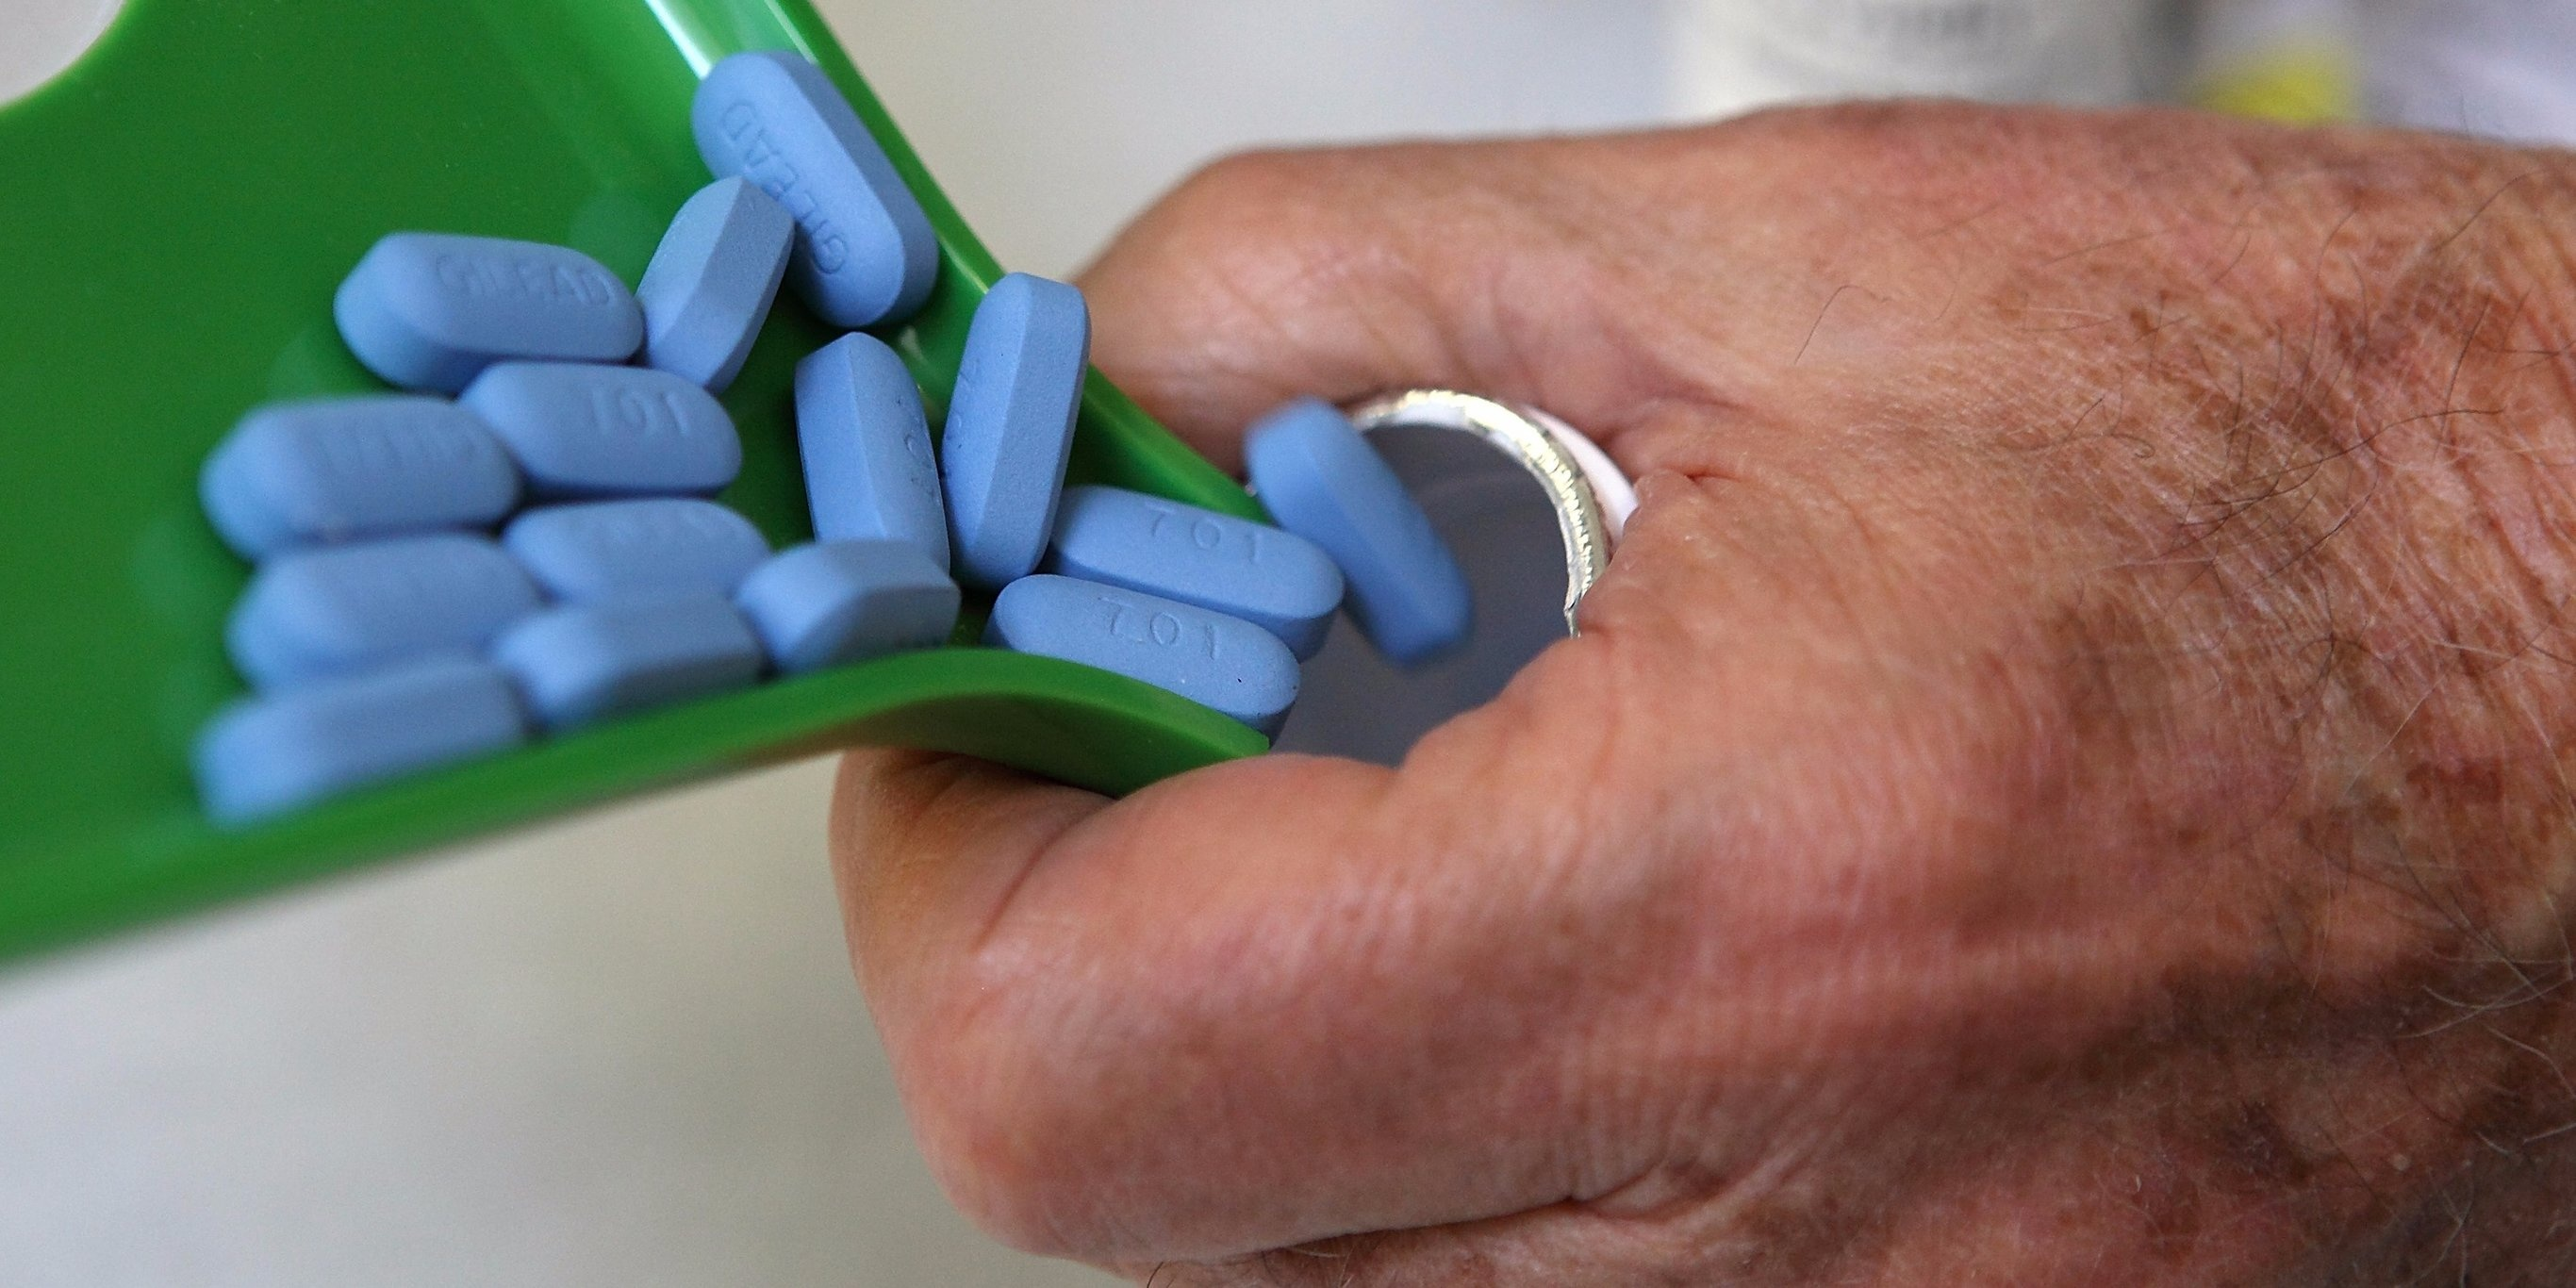pills: (683, 41, 922, 322), (1230, 399, 1465, 660), (996, 563, 1339, 729), (202, 398, 537, 540), (948, 264, 1086, 595), (789, 330, 936, 600), (1056, 467, 1334, 609), (360, 214, 642, 350), (490, 366, 777, 494)
